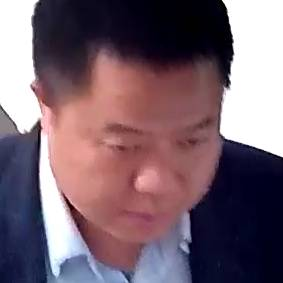cb: (28, 31, 237, 240)
